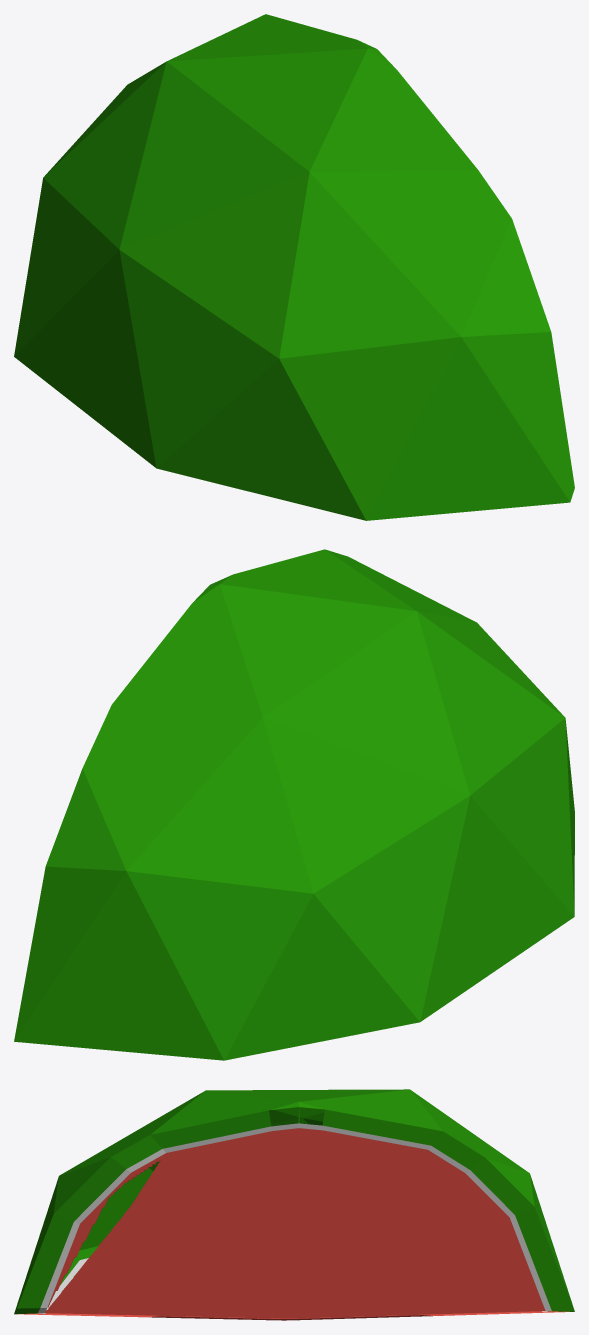
Rendered from watermelon.fbx.
3 renders of one model, top to bottom at view 1: azimuth 30°, elevation 25°; view 2: azimuth 150°, elevation 25°; view 3: azimuth 270°, elevation 25°, orthographic. The views are drawn at different scales.
Visible parts, largest first — view 1: Icosphere; view 2: Icosphere; view 3: Icosphere.
Boxes of the visible parts, x1,y1,x2,y2 form: Icosphere: [14, 14, 574, 520]; Icosphere: [14, 549, 574, 1060]; Icosphere: [14, 1089, 574, 1320].
Size of the model in its own units: 348 by 362 by 841.
